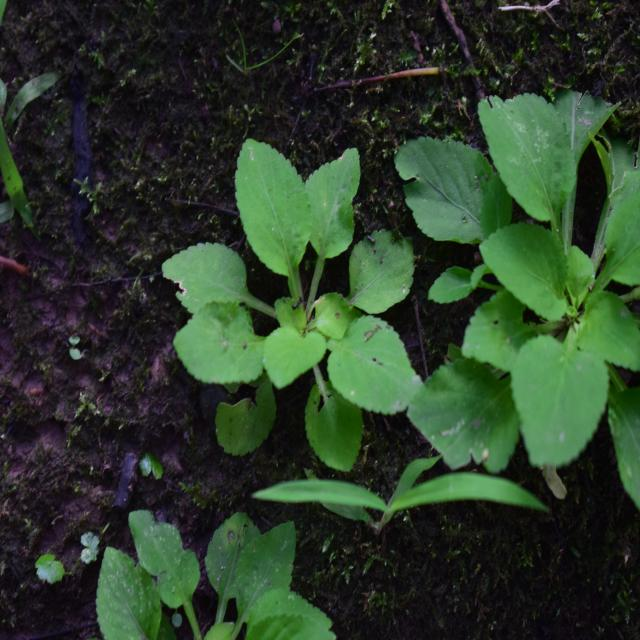Viola: (396, 94, 640, 493), (173, 128, 413, 414)
